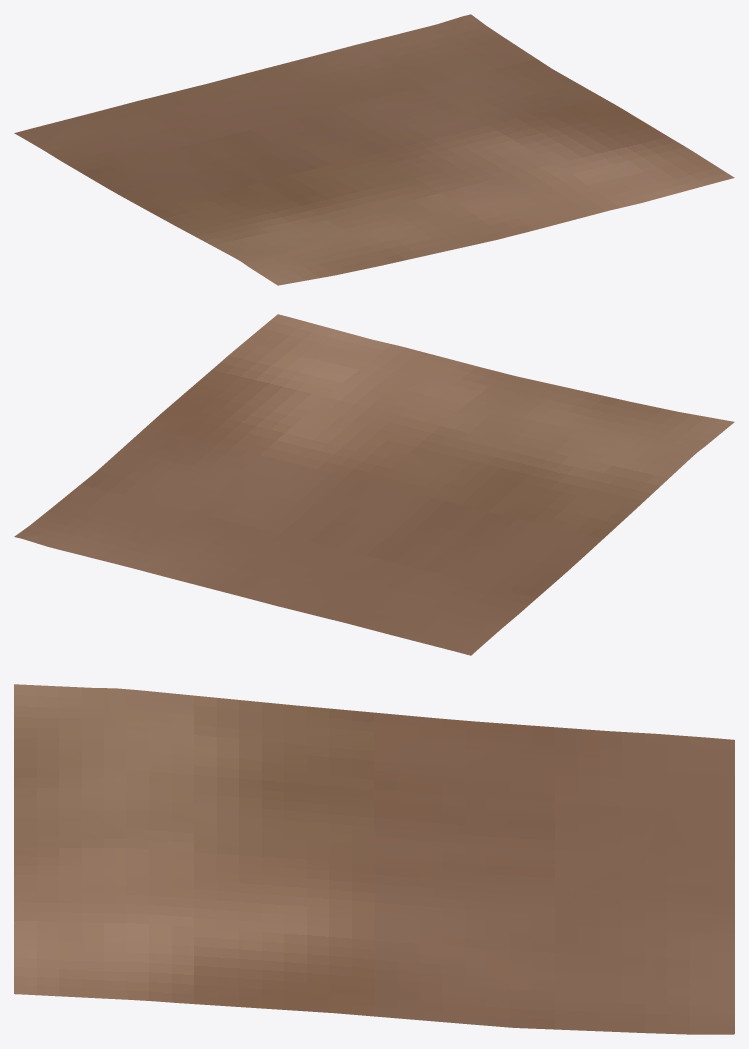
The picture shows the model from 3 angles, top to bottom: view 1: azimuth 30°, elevation 25°; view 2: azimuth 150°, elevation 25°; view 3: azimuth 270°, elevation 25°; orthographic projection. The views are drawn at different scales.
Bounding box in the file's own units: 8 × 0.681 × 8.
Materials: 1 (1 with a texture image).
